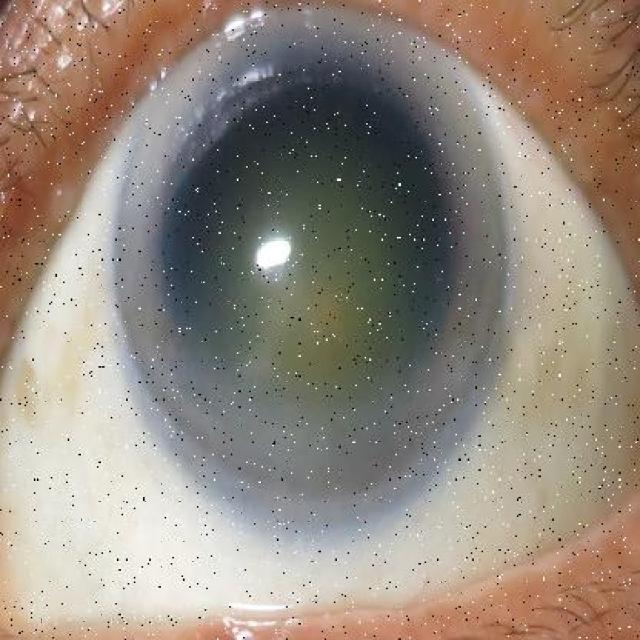Cataract: (87, 6, 562, 584)
